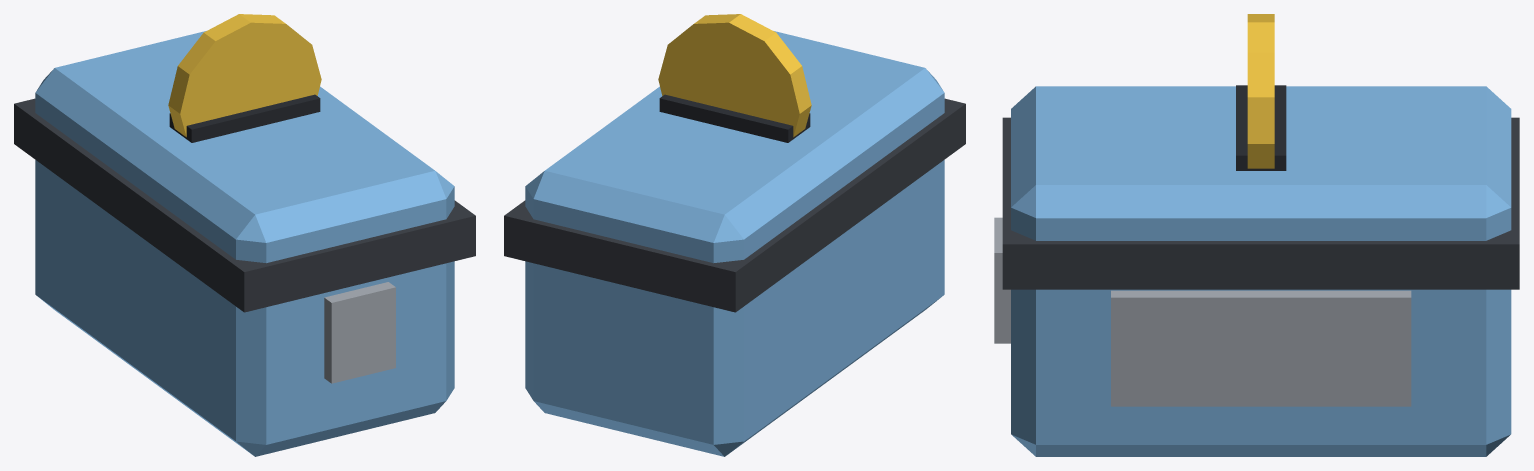
Rendered from coffee_m1_1.glb.
The picture shows the model from 3 angles, left to right: view 1: azimuth 30°, elevation 25°; view 2: azimuth 150°, elevation 25°; view 3: azimuth 270°, elevation 25°; orthographic projection. The views are drawn at different scales.
Visible parts, largest first — view 1: coffee_m1_1_mesh; view 2: coffee_m1_1_mesh; view 3: coffee_m1_1_mesh.
Boxes of the visible parts, x1,y1,x2,y2 form: coffee_m1_1_mesh: [14, 14, 475, 456]; coffee_m1_1_mesh: [504, 14, 965, 456]; coffee_m1_1_mesh: [994, 14, 1519, 456].
Bounding box in the file's own units: 0.185 × 0.255 × 0.315.
